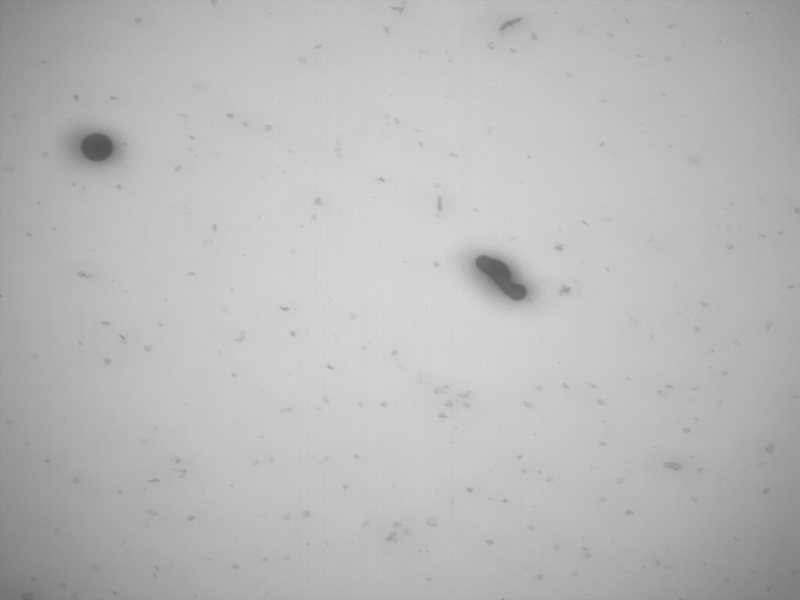bead: (81, 132, 114, 163)
